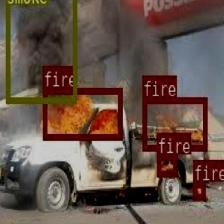fire: (42, 87, 121, 139), (142, 96, 206, 150), (156, 153, 176, 175), (192, 181, 204, 199)
smoke: (5, 0, 75, 103)
